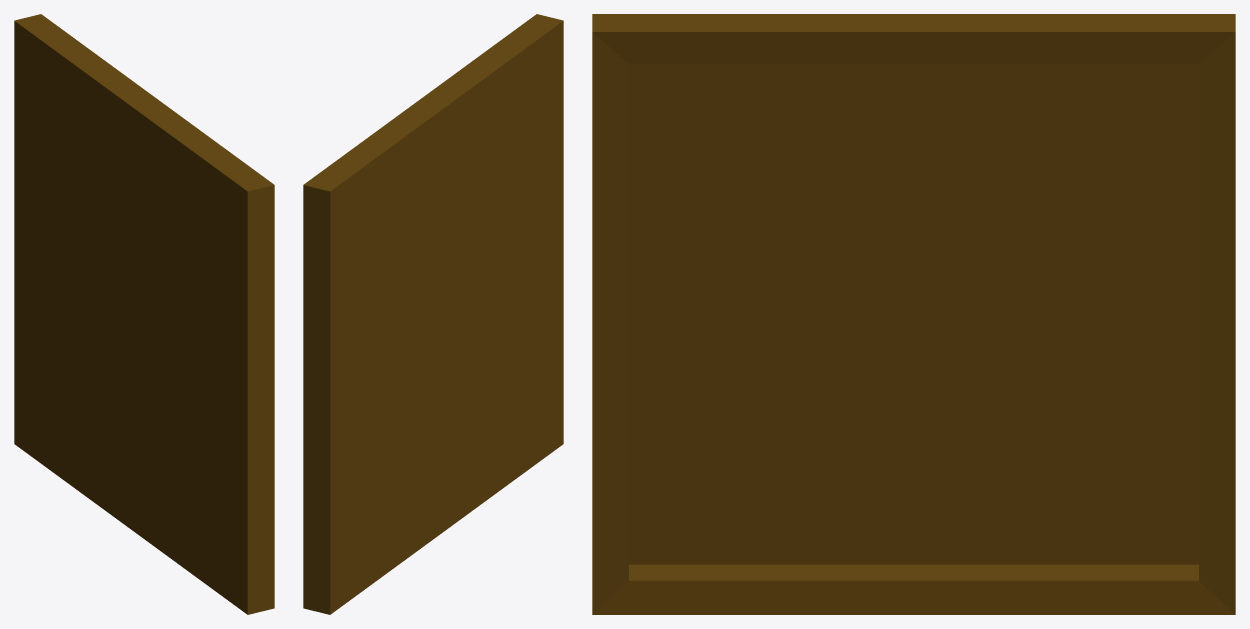
The model's file is pictureframe01.gltf.
3 renders of one model, left to right at view 1: azimuth 30°, elevation 25°; view 2: azimuth 150°, elevation 25°; view 3: azimuth 270°, elevation 25°, orthographic. The views are drawn at different scales.
Visible parts, largest first — view 1: Cube; view 2: Cube; view 3: Cube.
Part boxes in pixels (x1,y1,x2,y2): Cube: [14, 14, 274, 614]; Cube: [303, 14, 563, 614]; Cube: [592, 14, 1235, 614].
Size of the model in its own units: 0.02 by 0.3 by 0.3.
1 material, 1 textured.
